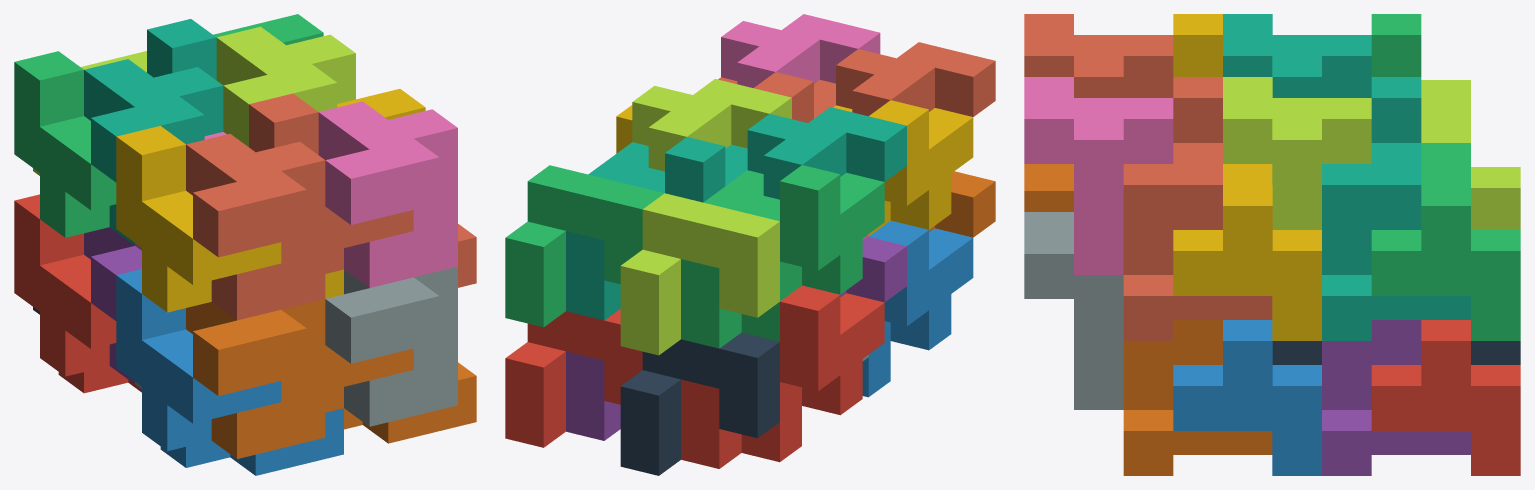
Rendered from tiling.obj.
3 renders of one model, left to right at view 1: azimuth 30°, elevation 25°; view 2: azimuth 150°, elevation 25°; view 3: azimuth 270°, elevation 25°, orthographic. The views are drawn at different scales.
Parts seen in each view (by area): view 1: copy_3_domain_4, copy_3_domain_8, copy_3_domain_2, copy_3_domain_6, copy_1_domain_4, copy_1_domain_3, copy_1_domain_2, copy_1_domain_1, copy_3_domain_3, copy_3_domain_7, copy_1_domain_8, copy_4_domain_2 (+9 smaller); view 2: copy_2_domain_3, copy_2_domain_1, copy_2_domain_7, copy_1_domain_3, copy_2_domain_5, copy_1_domain_1, copy_3_domain_3, copy_3_domain_4, copy_3_domain_7, copy_1_domain_4, copy_1_domain_2, copy_3_domain_8 (+10 smaller); view 3: copy_2_domain_7, copy_3_domain_8, copy_2_domain_8, copy_2_domain_5, copy_2_domain_6, copy_3_domain_7, copy_3_domain_6, copy_4_domain_7, copy_4_domain_8, copy_3_domain_4, copy_3_domain_3, copy_1_domain_8 (+11 smaller).
Part boxes in pixels (x1,y1,x2,y2): copy_3_domain_4: [186, 134, 325, 320]; copy_3_domain_8: [318, 101, 457, 287]; copy_3_domain_2: [186, 299, 325, 458]; copy_3_domain_6: [325, 266, 457, 426]; copy_1_domain_4: [116, 126, 281, 312]; copy_1_domain_3: [14, 51, 116, 237]; copy_1_domain_2: [116, 269, 281, 451]; copy_1_domain_1: [14, 194, 116, 376]; copy_3_domain_3: [84, 59, 223, 245]; copy_3_domain_7: [216, 26, 355, 146]; copy_1_domain_8: [249, 93, 413, 273]; copy_4_domain_2: [160, 408, 343, 475]; copy_2_domain_3: [620, 193, 779, 355]; copy_2_domain_1: [620, 332, 779, 475]; copy_2_domain_7: [505, 165, 664, 327]; copy_1_domain_3: [725, 165, 884, 294]; copy_2_domain_5: [505, 309, 642, 447]; copy_1_domain_1: [780, 285, 884, 415]; copy_3_domain_3: [747, 107, 906, 199]; copy_3_domain_4: [836, 42, 995, 116]; copy_3_domain_7: [632, 79, 791, 171]; copy_1_domain_4: [833, 100, 973, 229]; copy_1_domain_2: [869, 220, 973, 350]; copy_3_domain_8: [721, 14, 880, 87]; copy_2_domain_7: [1371, 143, 1520, 340]; copy_3_domain_8: [1024, 77, 1173, 274]; copy_2_domain_8: [1173, 164, 1321, 340]; copy_2_domain_5: [1371, 320, 1520, 475]; copy_2_domain_6: [1173, 320, 1321, 475]; copy_3_domain_7: [1223, 77, 1371, 229]; copy_3_domain_6: [1024, 212, 1123, 409]; copy_4_domain_7: [1322, 143, 1470, 340]; copy_4_domain_8: [1123, 143, 1272, 340]; copy_3_domain_4: [1024, 14, 1173, 97]; copy_3_domain_3: [1223, 14, 1371, 97]; copy_1_domain_8: [1123, 77, 1222, 274].
Bounding box in the file's own units: 7 × 7 × 10.
